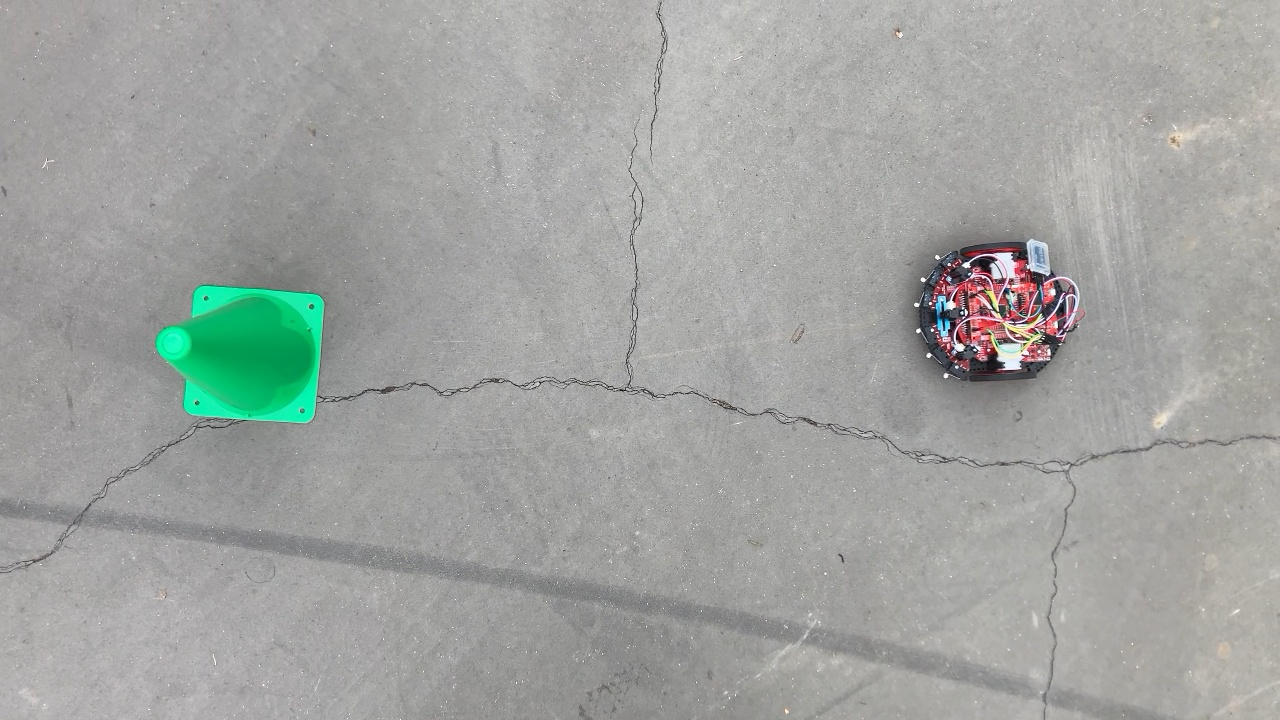green_cone: (150, 283, 328, 427)
robot: (910, 236, 1090, 388)
